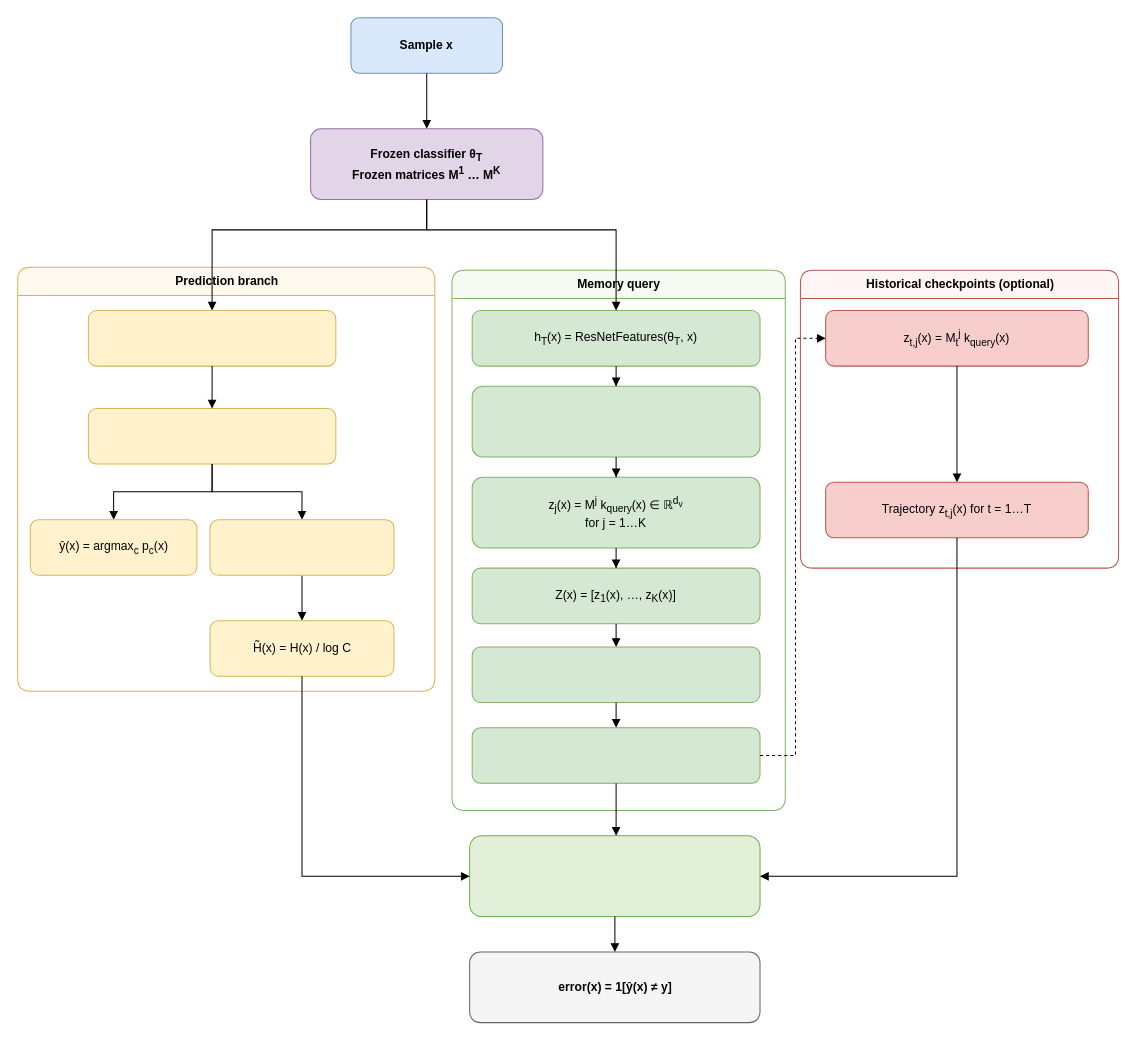
Some shapes in this 1136 by 1040 pixel diagram are drawn without their labels. The shapes that lost their labels are listed below. From the top down, each one's centre as x and y in pixels, then its label:
(x=211, y=338): logits T (x) = ResNet(θ T , x)
(x=211, y=436): p(x) = softmax(logits T (x))
(x=615, y=421): k query (x) = h T (x) / (‖h T (x)‖₂ + ε)
(x=301, y=547): H(x) = −Σ c p c (x) log p c (x)
(x=615, y=674): A ij (x) = cos(z i (x), z j (x))
(x=615, y=755): Cross-level variance V z , V s
(x=614, y=876): Per-sample record: p(x), H̃(x), h T , k query , z j , diagnostics
